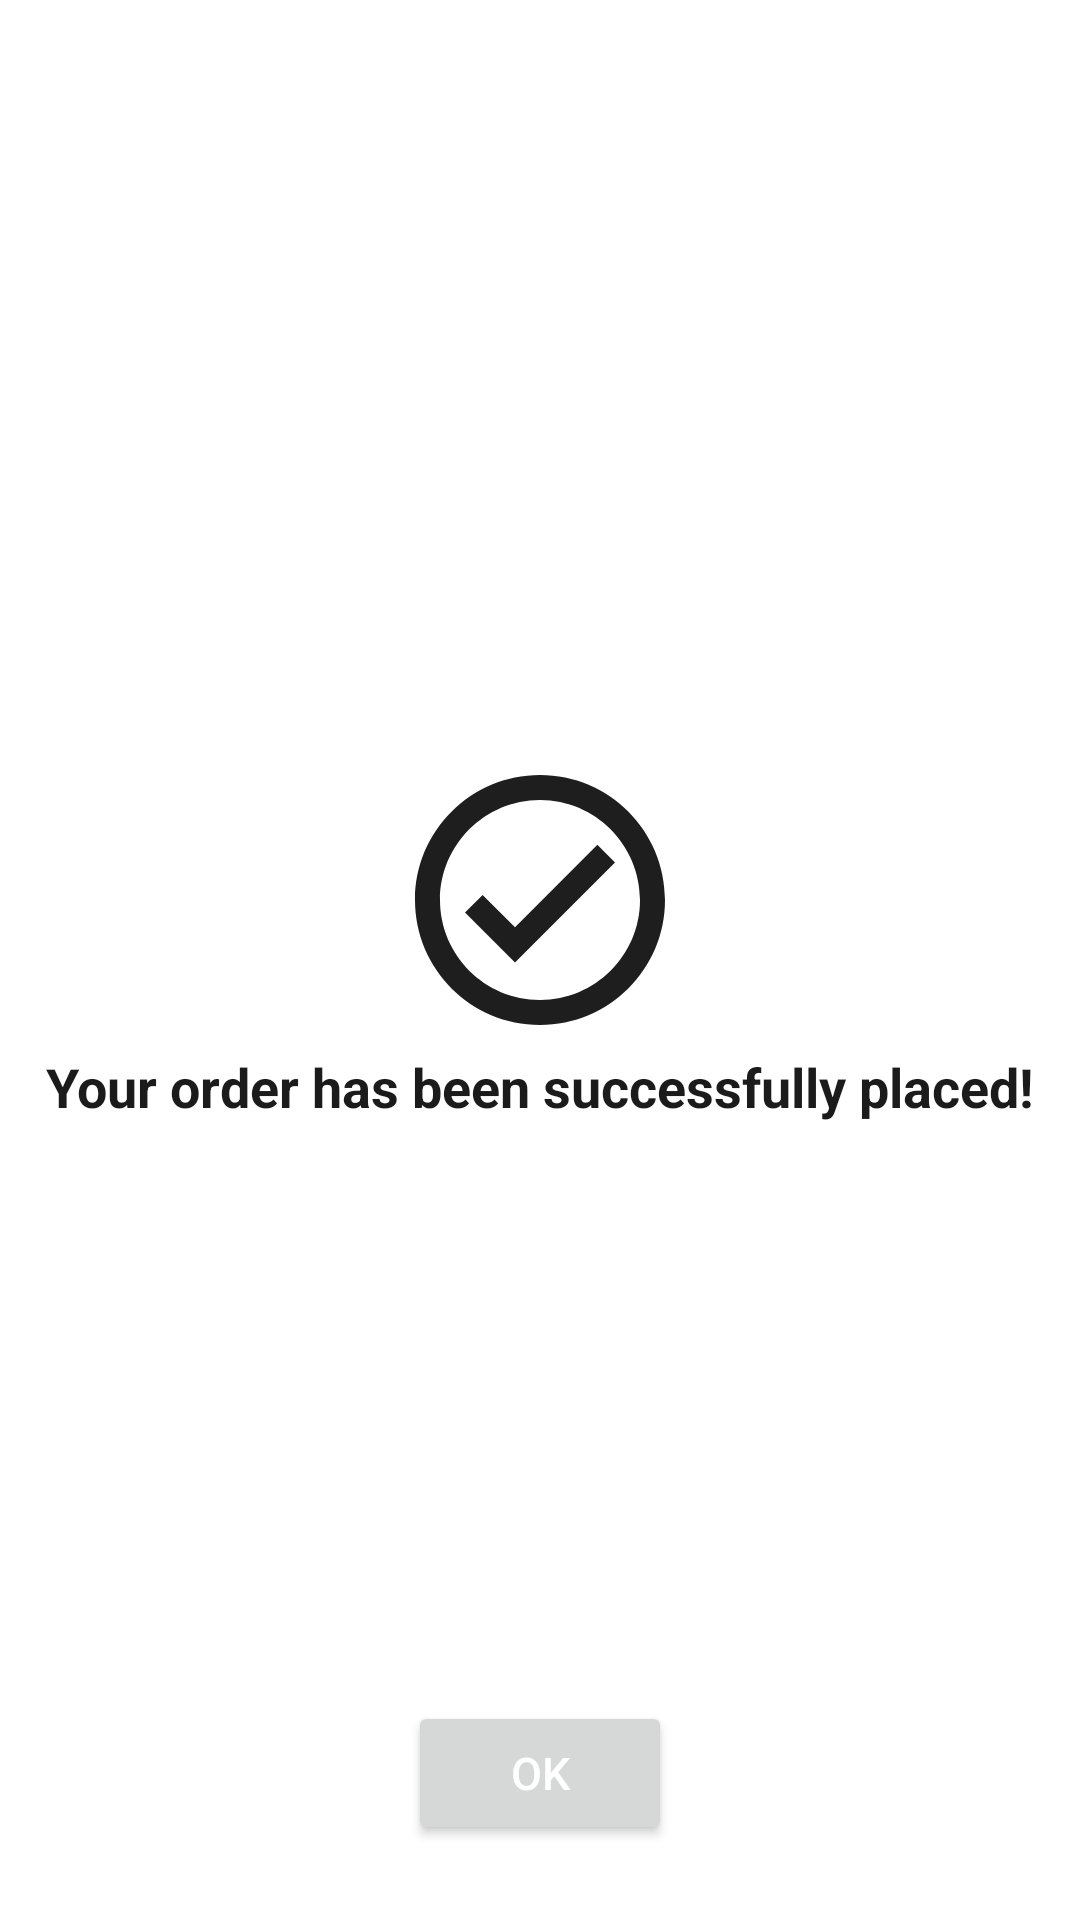

Icon click points for this 1080px x 1920px phone screenshot, format [x,y]:
check: [540,900]
